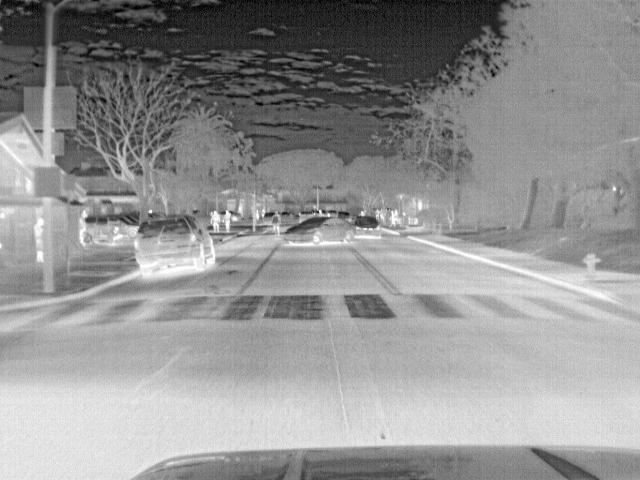car: (137, 214, 219, 274), (280, 213, 356, 249), (88, 213, 141, 241), (351, 213, 382, 241), (262, 211, 277, 226)
person: (33, 215, 45, 266), (78, 208, 91, 248), (222, 208, 235, 234), (210, 207, 222, 233), (271, 210, 283, 235)
